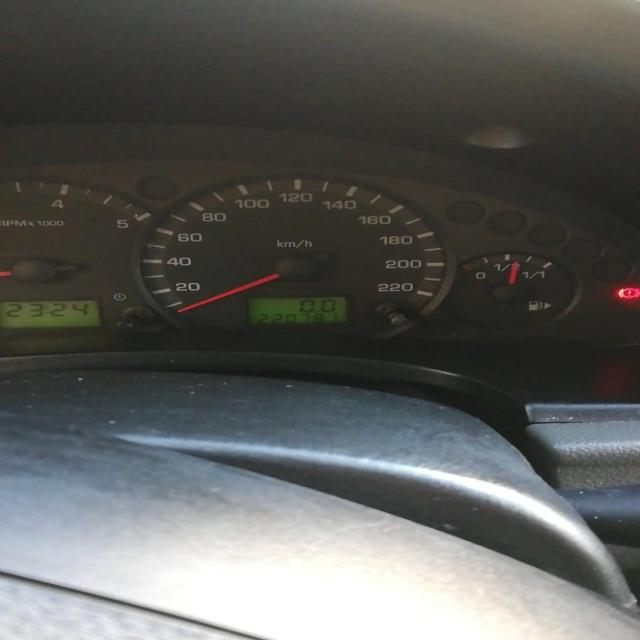odometer: (242, 294, 352, 326)
